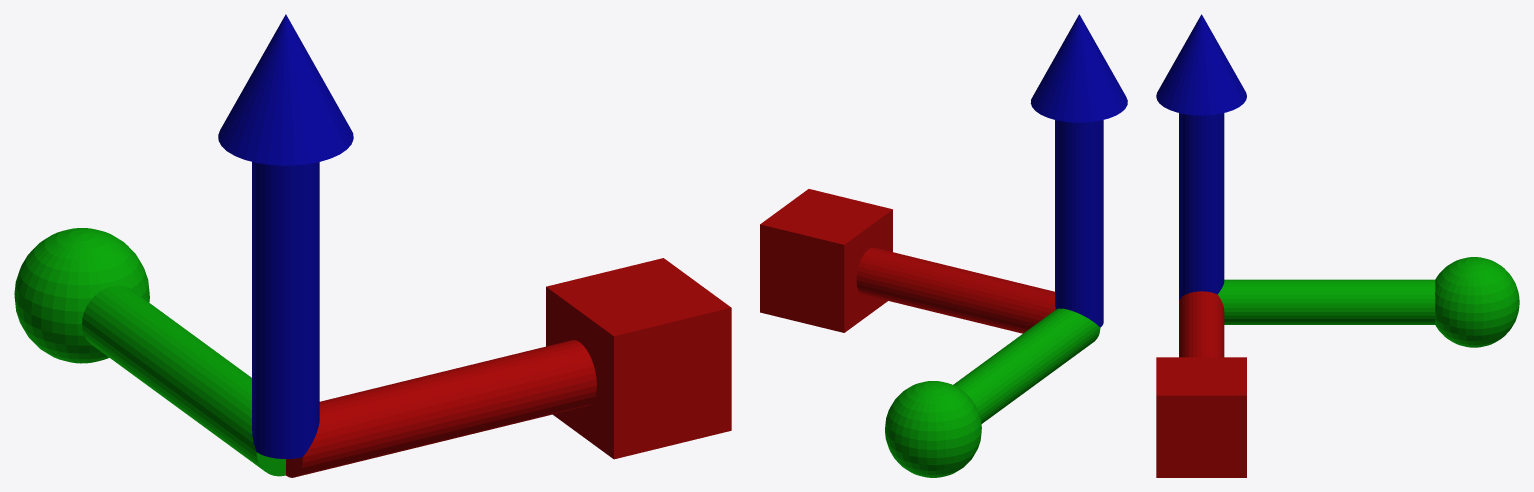
Rendered from coordinates.obj.
The picture shows the model from 3 angles, left to right: view 1: azimuth 30°, elevation 25°; view 2: azimuth 150°, elevation 25°; view 3: azimuth 270°, elevation 25°; orthographic projection. The views are drawn at different scales.
Visible parts, largest first — view 1: Cube_Cube.001, Cylinder.001, Cylinder, Cylinder.002, Cone, Sphere; view 2: Cube_Cube.001, Cylinder, Cylinder.001, Sphere, Cylinder.002, Cone; view 3: Cube_Cube.001, Cylinder.002, Cylinder, Sphere, Cone, Cylinder.001.
Part boxes in pixels (x1,y1,x2,y2): Cube_Cube.001: [546, 258, 731, 459]; Cylinder.001: [286, 340, 596, 477]; Cylinder: [252, 162, 319, 458]; Cylinder.002: [82, 285, 285, 476]; Cone: [218, 14, 353, 165]; Sphere: [14, 228, 149, 363]; Cube_Cube.001: [760, 189, 892, 332]; Cylinder: [1055, 120, 1103, 327]; Cylinder.001: [856, 247, 1055, 333]; Sphere: [885, 381, 981, 477]; Cylinder.002: [953, 308, 1100, 423]; Cone: [1030, 14, 1127, 122]; Cube_Cube.001: [1156, 357, 1246, 477]; Cylinder.002: [1218, 279, 1435, 324]; Cylinder: [1179, 113, 1224, 300]; Sphere: [1435, 257, 1519, 347]; Cone: [1156, 14, 1246, 115]; Cylinder.001: [1179, 291, 1224, 357].
Bounding box in the file's own units: 0.4 × 0.4 × 0.4.
